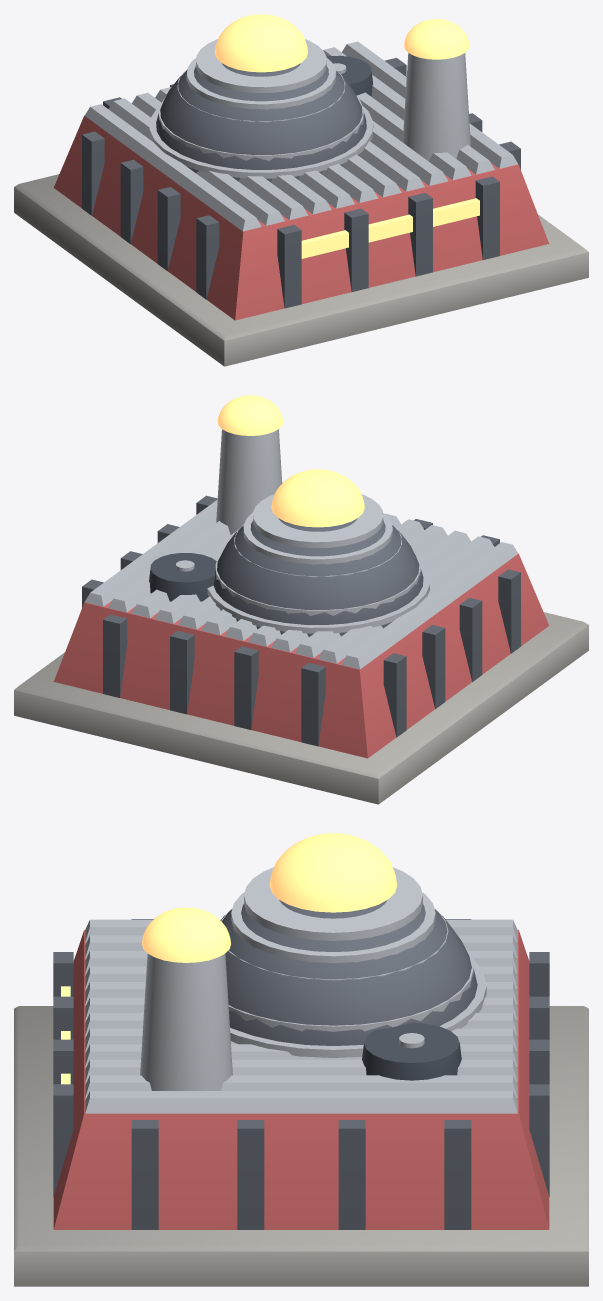
Rendered from spowr.glb.
3 views of the same model, one above another, from view 1: azimuth 30°, elevation 25°; view 2: azimuth 150°, elevation 25°; view 3: azimuth 270°, elevation 25° (orthographic). The views are drawn at different scales.
Parts seen in each view (by area): view 1: Hull; view 2: Hull; view 3: Hull.
Boxes of the visible parts, box(x1,y1,x2,y2) form: Hull: box(14, 14, 588, 366); Hull: box(14, 395, 588, 804); Hull: box(14, 833, 588, 1286).
Size of the model in its own units: 3.24 by 1.96 by 3.24.
